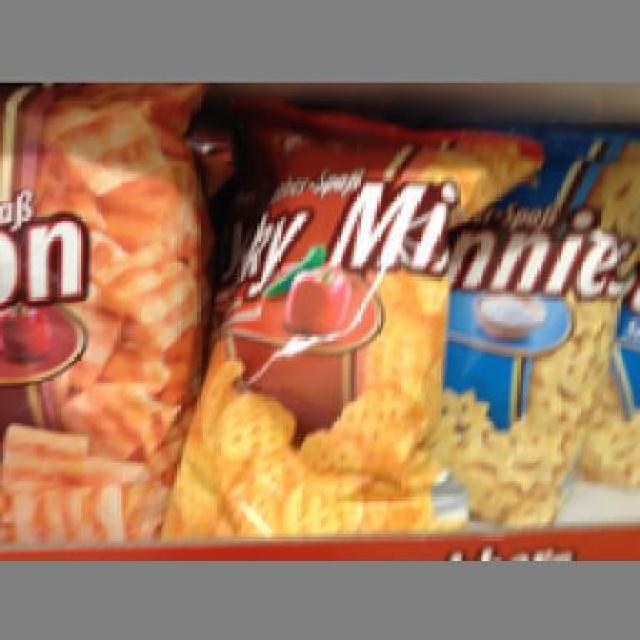Chips: (177, 97, 472, 530), (2, 81, 200, 542), (437, 126, 637, 520)
